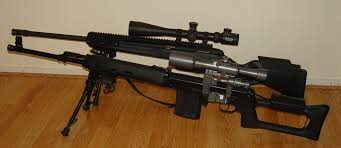gun: (4, 40, 328, 142), (7, 19, 308, 97)
